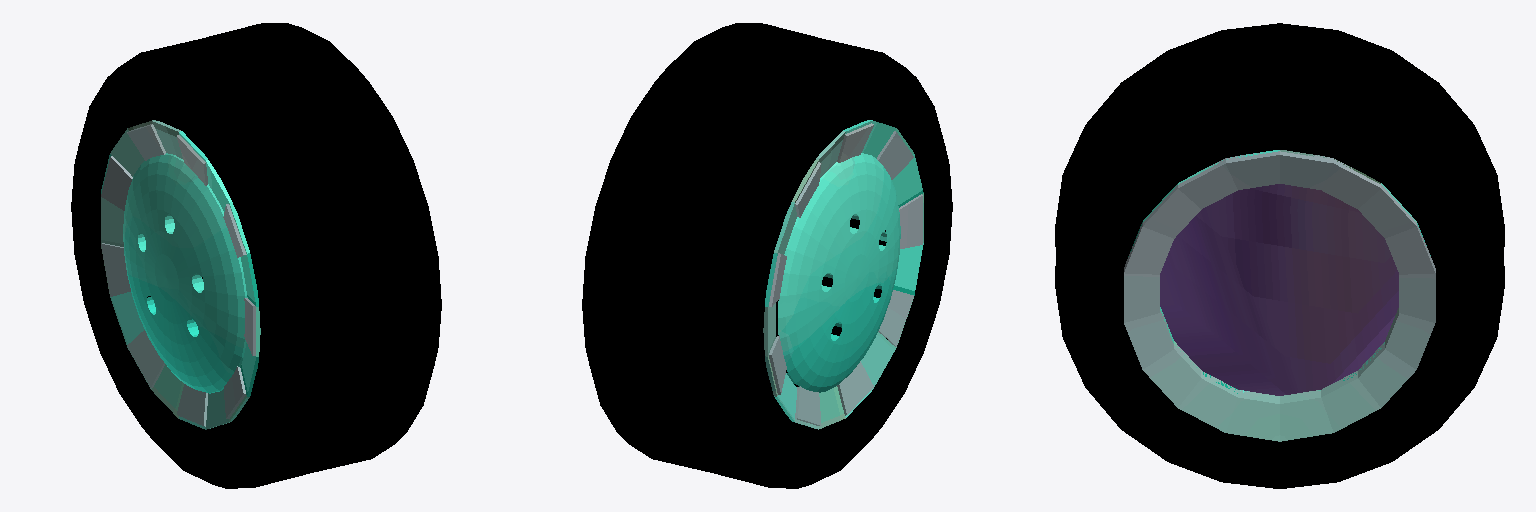
3 views of the same model, side by side, from view 1: azimuth 30°, elevation 25°; view 2: azimuth 150°, elevation 25°; view 3: azimuth 270°, elevation 25° (orthographic).
Parts seen in each view (by area): view 1: Torus01, Sphere01, Tube01, Tube02; view 2: Torus01, Sphere01, Tube01, Tube02; view 3: Torus01, Cylinder01, Tube02, Tube01.
Boxes of the visible parts, x1,y1,x2,y2 form: Torus01: [71, 23, 441, 488]; Sphere01: [123, 153, 247, 393]; Tube01: [101, 120, 260, 429]; Tube02: [101, 124, 255, 426]; Torus01: [582, 23, 952, 488]; Sphere01: [776, 153, 900, 392]; Tube01: [763, 120, 923, 429]; Tube02: [769, 123, 922, 425]; Torus01: [1055, 23, 1504, 488]; Cylinder01: [1160, 184, 1398, 395]; Tube02: [1124, 151, 1435, 441]; Tube01: [1128, 150, 1430, 393].
Bounding box in the file's own units: 2.2 × 4.8 × 4.8.
5 materials, 1 textured.